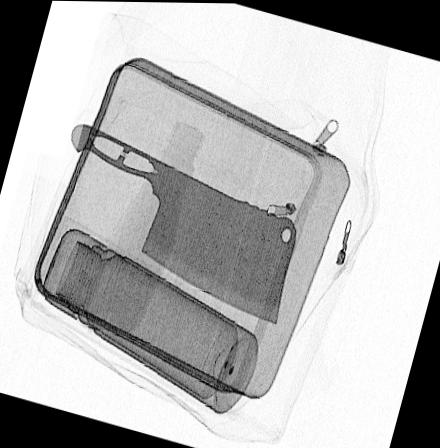Knife: (66, 121, 297, 325)
